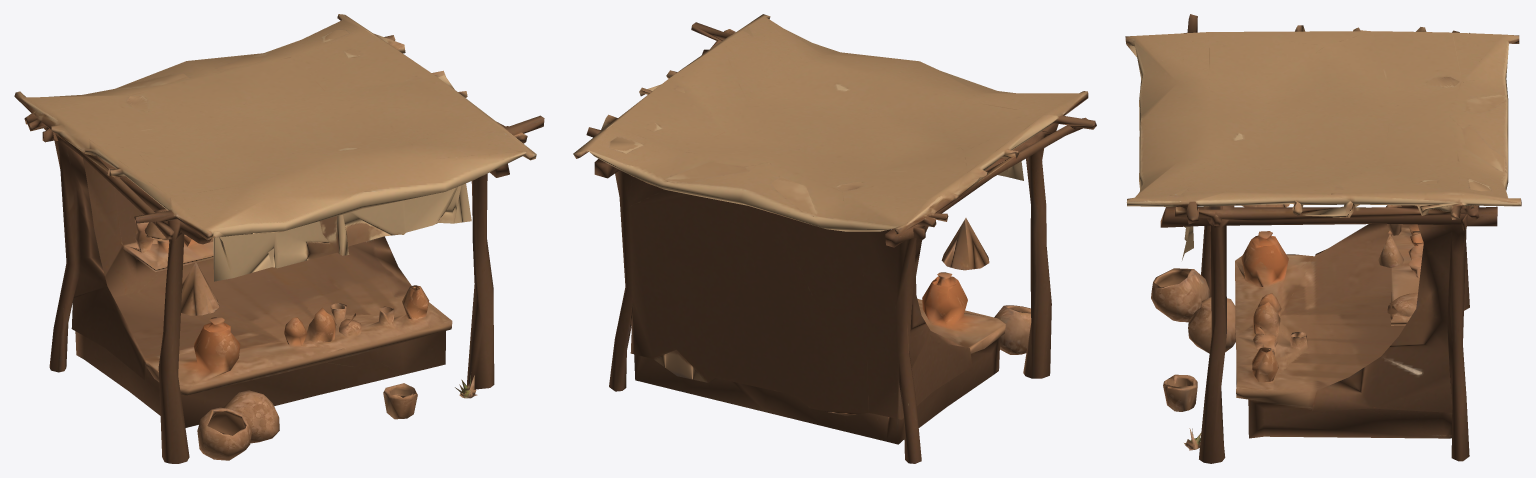
File: pazar_tezgahi.glb
3 renders of one model, left to right at view 1: azimuth 30°, elevation 25°; view 2: azimuth 150°, elevation 25°; view 3: azimuth 270°, elevation 25°, orthographic. The views are drawn at different scales.
Bounding box in the file's own units: 1.89 × 1.17 × 1.56.
Materials: 1 (1 with a texture image).
